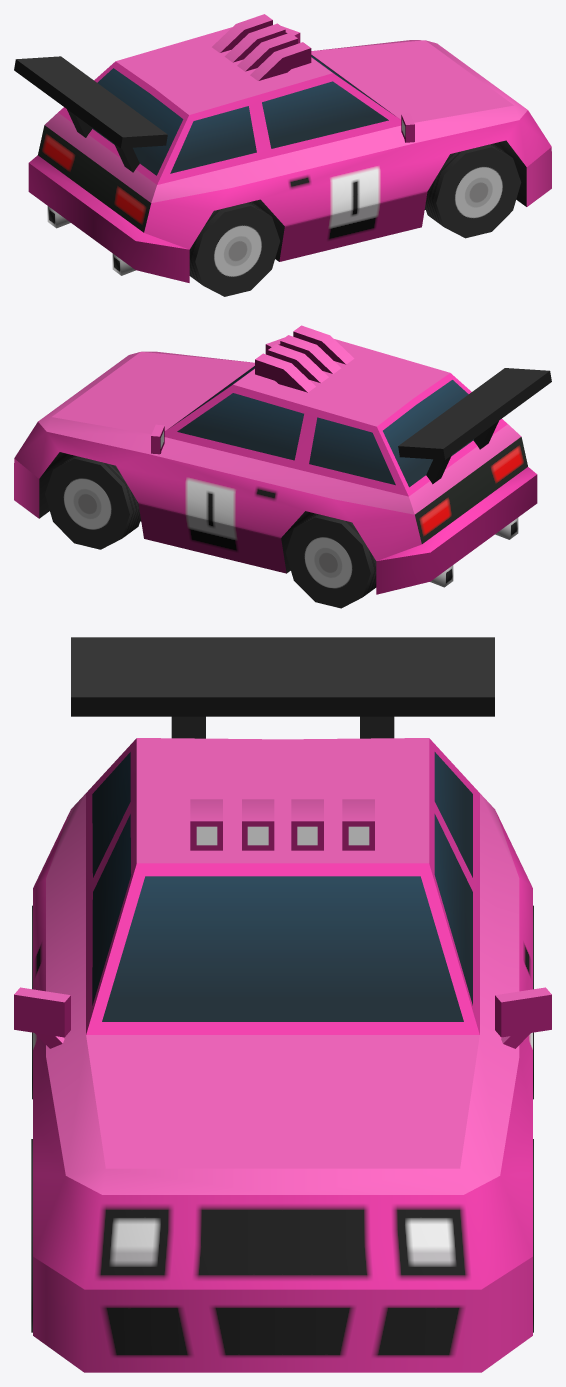
The model's file is RaceCar_101.glb.
The picture shows the model from 3 angles, top to bottom: view 1: azimuth 30°, elevation 25°; view 2: azimuth 150°, elevation 25°; view 3: azimuth 270°, elevation 25°; orthographic projection. The views are drawn at different scales.
Parts seen in each view (by area): view 1: RaceCar_101, wheel_1_RaceCar_101_Wheel_1R, wheel_3_RaceCar_101_Wheel_2R; view 2: RaceCar_101, wheel_0_RaceCar_101_Wheel_1L, wheel_2_RaceCar_101_Wheel_2L; view 3: RaceCar_101.
Boxes of the visible parts, x1=… form: RaceCar_101: x1=14, y1=14, x2=551, y2=282; wheel_1_RaceCar_101_Wheel_1R: x1=425, y1=144, x2=521, y2=238; wheel_3_RaceCar_101_Wheel_2R: x1=189, y1=202, x2=280, y2=296; RaceCar_101: x1=14, y1=325, x2=551, y2=594; wheel_0_RaceCar_101_Wheel_1L: x1=45, y1=455, x2=140, y2=549; wheel_2_RaceCar_101_Wheel_2L: x1=285, y1=513, x2=376, y2=608; RaceCar_101: x1=14, y1=637, x2=551, y2=1372.
Size of the model in its own units: 3.59 by 1.49 by 1.94.
Materials: 1 (1 with a texture image).
